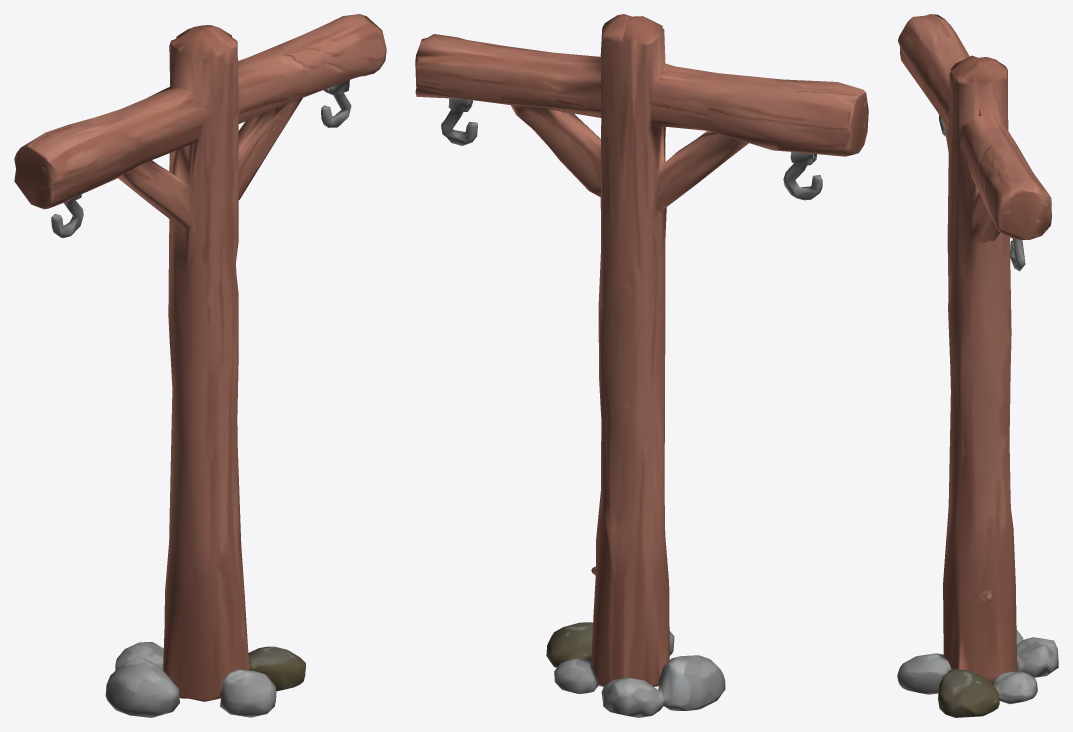
File: washpost.glb
3 views of the same model, side by side, from view 1: azimuth 30°, elevation 25°; view 2: azimuth 150°, elevation 25°; view 3: azimuth 270°, elevation 25° (orthographic). The views are drawn at different scales.
Size of the model in its own units: 1.51 by 2.4 by 0.5666.
Materials: 1 (1 with a texture image).
